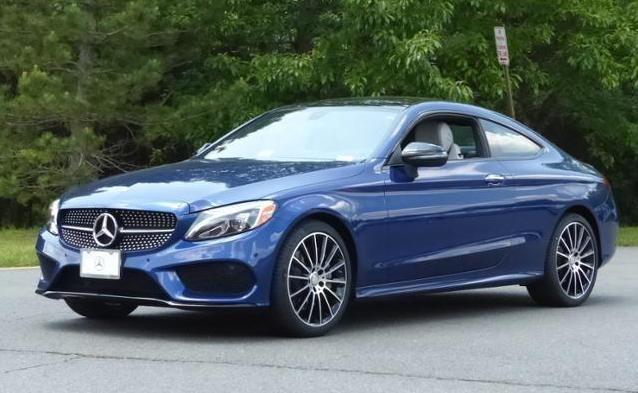C300Coupe: (30, 94, 615, 337)
